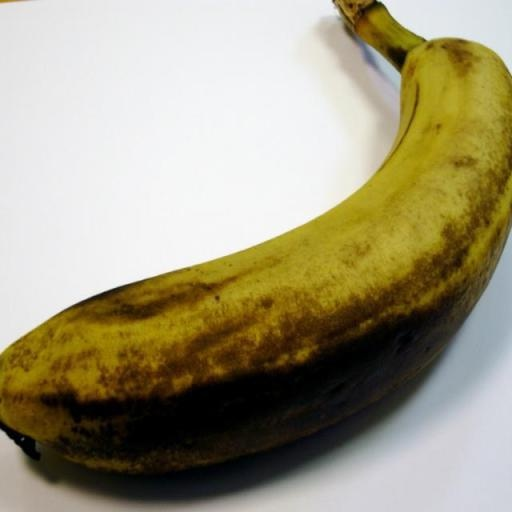fruit: (309, 0, 439, 2)
